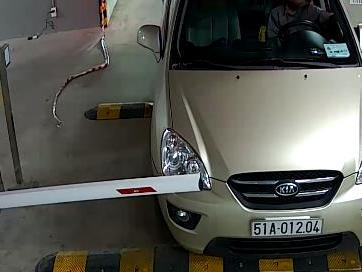car: (250, 218, 325, 237)
